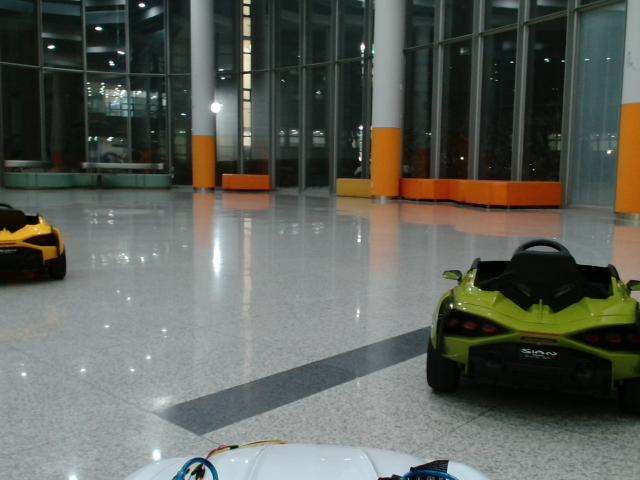car: (428, 240, 640, 418), (1, 203, 67, 286)
